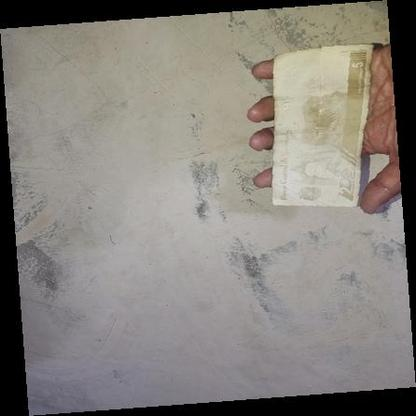five-back-vef: (272, 43, 374, 206)
